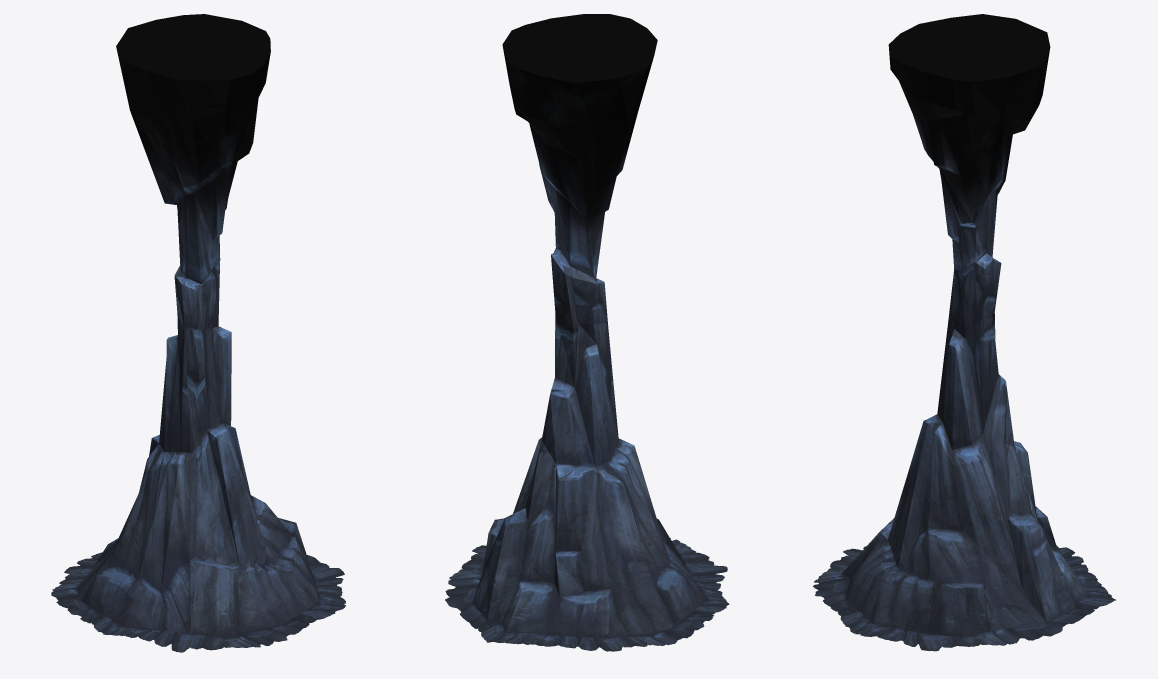
The model's file is mine_column_free_01.fbx.
3 renders of one model, left to right at view 1: azimuth 30°, elevation 25°; view 2: azimuth 150°, elevation 25°; view 3: azimuth 270°, elevation 25°, orthographic.
Visible parts, largest first — view 1: mine_column_free_01-0; view 2: mine_column_free_01-0; view 3: mine_column_free_01-0.
Boxes of the visible parts, x1,y1,x2,y2 form: mine_column_free_01-0: [51, 14, 345, 652]; mine_column_free_01-0: [445, 14, 729, 651]; mine_column_free_01-0: [813, 14, 1115, 651].
Size of the model in its own units: 9.1 by 16 by 9.69.
